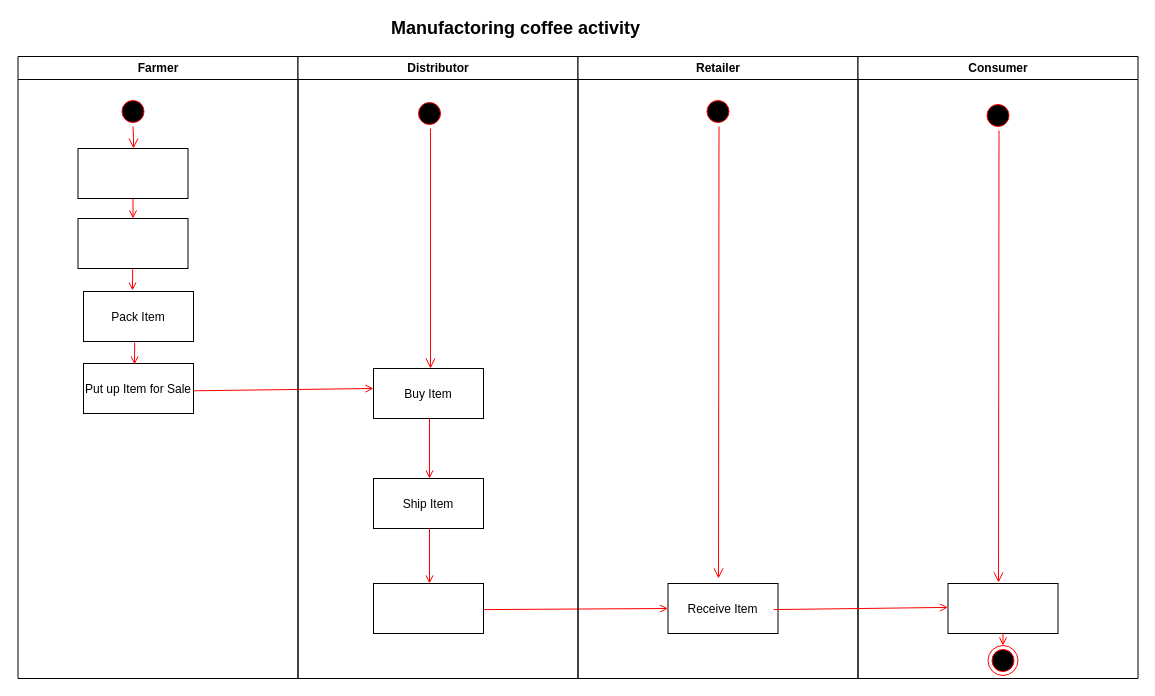
Some shapes in this 1155 by 696 pixel diagram are drawn without their labels. The box of each missing label's shape, as (x1, y1, x2, y2) in pixels:
Harvest Item: (77, 148, 188, 198)
Process Item: (77, 218, 188, 268)
Process the incoming shoe sales order: (372, 582, 484, 634)
Purchase Item: (947, 582, 1058, 634)
